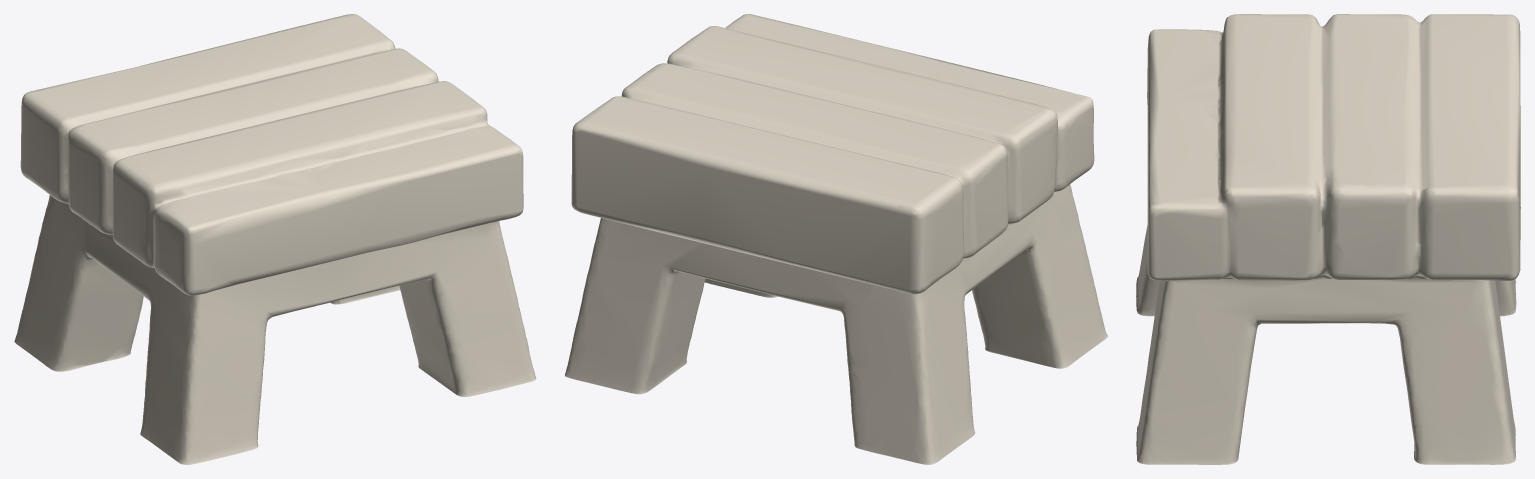
Rendered from spa_stool.glb.
3 views of the same model, side by side, from view 1: azimuth 30°, elevation 25°; view 2: azimuth 150°, elevation 25°; view 3: azimuth 270°, elevation 25° (orthographic). The views are drawn at different scales.
Size of the model in its own units: 0.1497 by 0.0984 by 0.1276.
